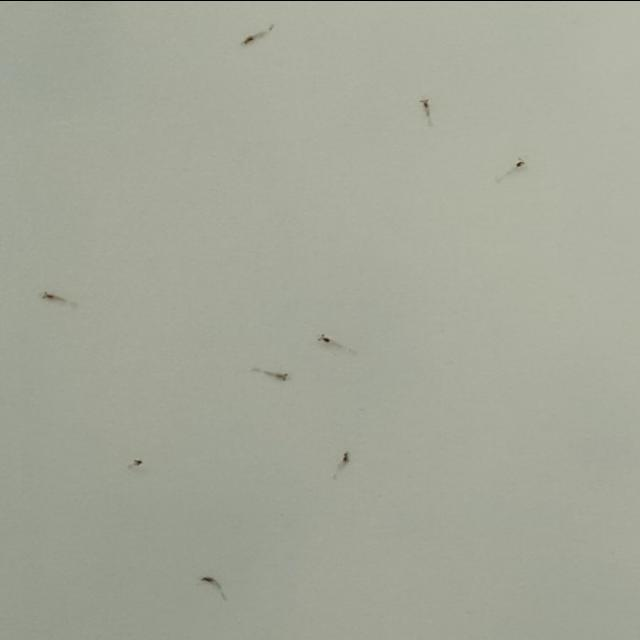shrimp-seed: (264, 366, 292, 386), (238, 29, 268, 47), (313, 329, 337, 347), (334, 448, 354, 468), (38, 289, 64, 304), (414, 96, 434, 114), (509, 155, 530, 171), (196, 572, 216, 586)
